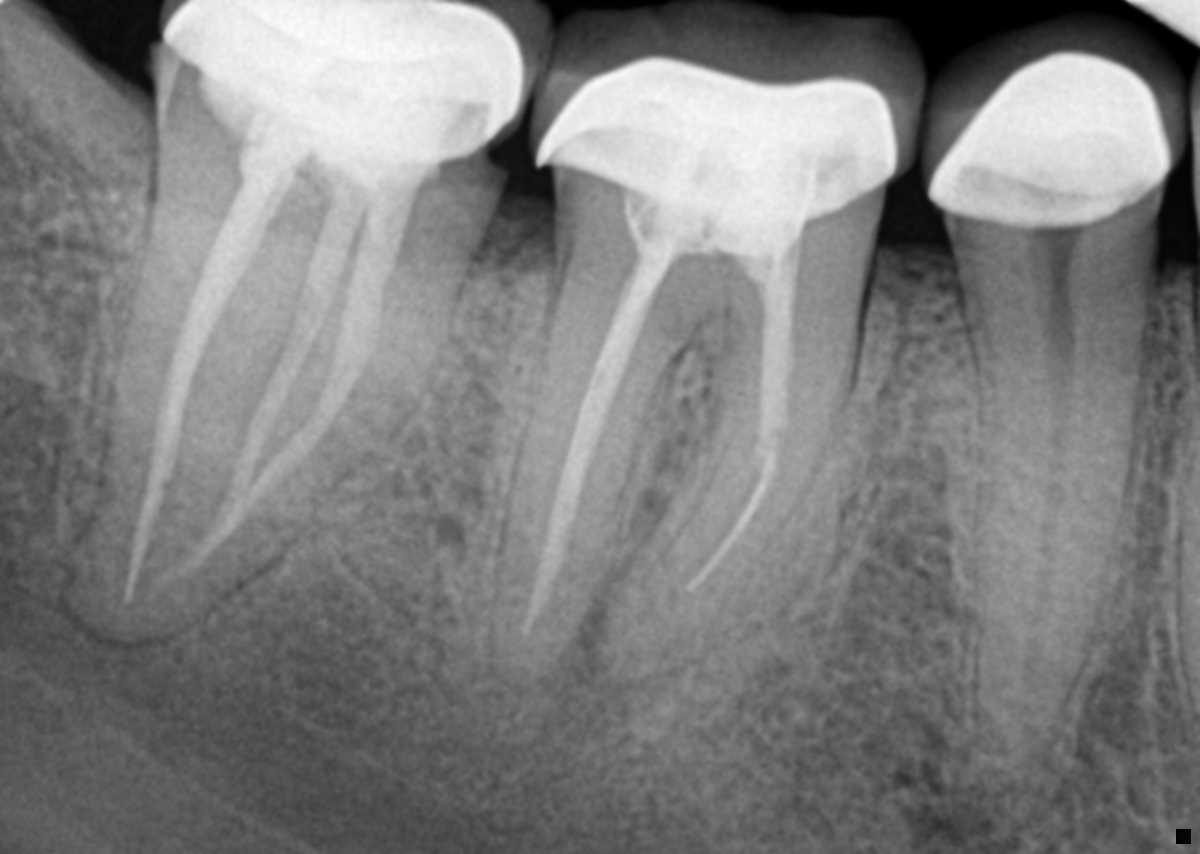Apical Lesion: (552, 601, 671, 739)
Distal Root: (488, 249, 698, 682)
Main Canal: (1019, 274, 1069, 732)
Main Root: (60, 123, 481, 648), (952, 255, 1156, 751)
Mesial Canal: (608, 274, 865, 666)
Root Canal Filling: (148, 195, 405, 600), (521, 279, 649, 645), (757, 288, 792, 463)
decay: (417, 148, 492, 193)
